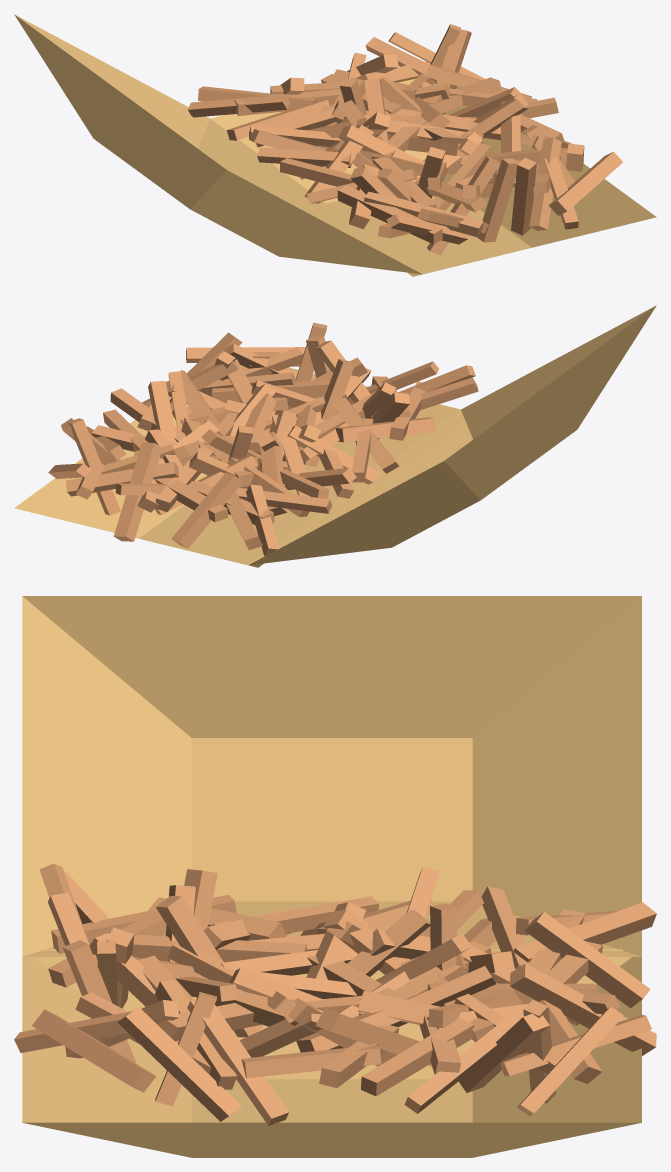
File: chips.glb
3 views of the same model, one above another, from view 1: azimuth 30°, elevation 25°; view 2: azimuth 150°, elevation 25°; view 3: azimuth 270°, elevation 25° (orthographic). The views are drawn at different scales.
Parts seen in each view (by area): view 1: chip platform, Polystirine container lid, Polystirine container; view 2: chip platform, Polystirine container lid, Polystirine container; view 3: Polystirine container lid, chip platform, Polystirine container.
Boxes of the visible parts, left/top/right/bottom form: chip platform: left=188, top=24, right=623, bottom=255; Polystirine container lid: left=14, top=14, right=422, bottom=274; Polystirine container: left=210, top=78, right=656, bottom=276; chip platform: left=48, top=322, right=478, bottom=556; Polystirine container lid: left=248, top=305, right=656, bottom=565; Polystirine container: left=14, top=365, right=460, bottom=567; Polystirine container lid: left=22, top=596, right=641, bottom=956; chip platform: left=14, top=863, right=656, bottom=1125; Polystirine container: left=22, top=949, right=641, bottom=1157.
Bounding box in the file's own units: 5.29 × 2.39 × 4.58.
